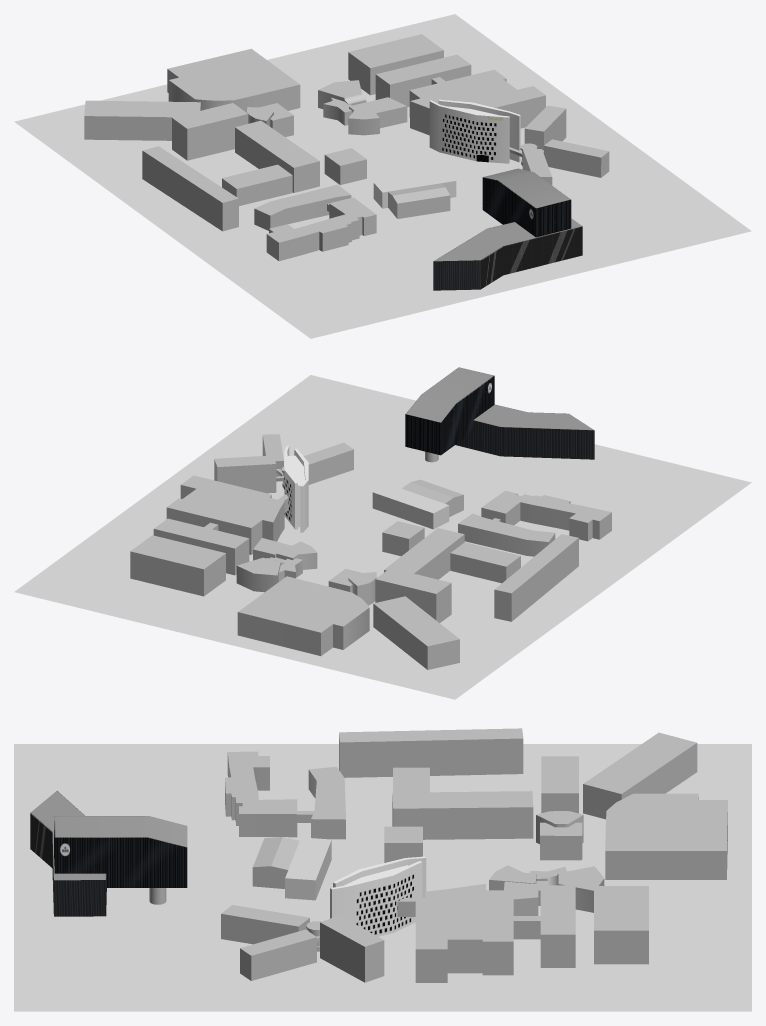
The model's file is Campus Model new version.fbx.
The picture shows the model from 3 angles, top to bottom: view 1: azimuth 30°, elevation 25°; view 2: azimuth 150°, elevation 25°; view 3: azimuth 270°, elevation 25°; orthographic projection. The views are drawn at different scales.
Visible parts, largest first — view 1: Plane001, BC, library, obj2, BC2, Box020, J, Box001, Y, Box005, Box003, Box006 (+14 smaller); view 2: Plane001, library, BC, Box020, BC2, Box006, Box001, Y, J, Box003, W, Box007 (+12 smaller); view 3: Plane001, library, Box020, BC2, J, Box005, Box001, obj2, Y, Box006, BC, Box022 (+14 smaller).
Part boxes in pixels (x1,y1,x2,y2): Plane001: [14, 14, 751, 338]; BC: [433, 218, 582, 290]; library: [167, 48, 300, 112]; obj2: [429, 99, 520, 163]; BC2: [482, 168, 571, 237]; Box020: [409, 69, 545, 135]; J: [142, 146, 238, 231]; Box001: [84, 100, 200, 140]; Y: [266, 197, 376, 261]; Box005: [235, 120, 319, 192]; Box003: [172, 103, 248, 160]; Box006: [348, 34, 443, 95]; Plane001: [14, 375, 751, 699]; library: [237, 576, 369, 655]; BC: [455, 404, 594, 459]; Box020: [166, 475, 288, 554]; BC2: [405, 367, 494, 455]; Box006: [130, 535, 225, 596]; Box001: [373, 596, 459, 669]; Y: [481, 490, 611, 541]; J: [494, 534, 578, 621]; Box003: [375, 568, 451, 622]; W: [458, 513, 555, 556]; Box007: [153, 518, 249, 575]; Plane001: [14, 744, 751, 1011]; library: [605, 793, 727, 879]; Box020: [397, 884, 540, 982]; BC2: [54, 816, 187, 887]; J: [339, 728, 523, 777]; Box005: [392, 791, 533, 839]; Box001: [583, 732, 697, 819]; obj2: [330, 856, 426, 936]; Y: [225, 751, 314, 837]; Box006: [594, 886, 648, 964]; BC: [30, 791, 106, 916]; Box022: [320, 915, 384, 982].
Size of the model in its own units: 146 by 18.91 by 170.
